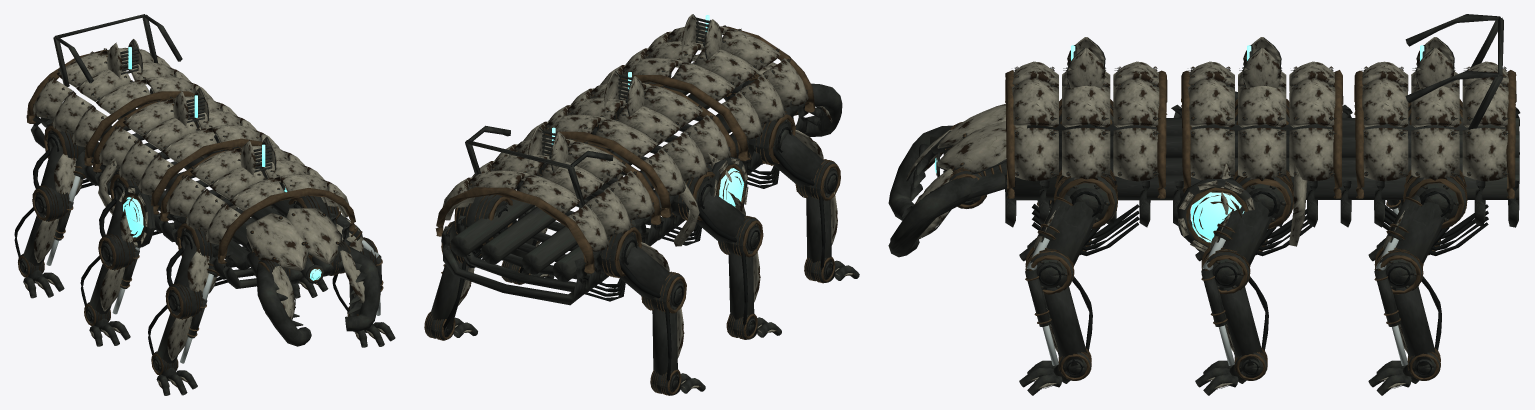
Rendered from boss-scrap-leviathan.glb.
3 renders of one model, left to right at view 1: azimuth 30°, elevation 25°; view 2: azimuth 150°, elevation 25°; view 3: azimuth 270°, elevation 25°, orthographic. The views are drawn at different scales.
Visible parts, largest first — view 1: motion-body, motion-weapon-0, motion-knee-4, motion-knee-0, motion-knee-2, motion-leg-4, motion-leg-0, motion-leg-2, motion-leg-1, motion-foot-0, motion-foot-4, motion-foot-2 (+6 smaller); view 2: motion-body, motion-leg-0, motion-leg-4, motion-knee-4, motion-knee-0, motion-knee-2, motion-leg-2, motion-weapon-0, motion-knee-5, motion-leg-5, motion-vent-0, motion-vent-1 (+5 smaller); view 3: motion-body, motion-weapon-0, motion-knee-1, motion-knee-3, motion-knee-5, motion-leg-5, motion-leg-1, motion-leg-3, motion-foot-3, motion-foot-5, motion-foot-1, motion-vent-0 (+2 smaller).
Part boxes in pixels (<box>): motion-body: <box>26,14,355,288</box>; motion-weapon-0: <box>246,208,380,346</box>; motion-knee-4: <box>14,185,73,274</box>; motion-knee-0: <box>148,283,207,372</box>; motion-knee-2: <box>80,234,139,316</box>; motion-leg-4: <box>33,122,85,202</box>; motion-leg-0: <box>166,220,219,300</box>; motion-leg-2: <box>99,171,150,250</box>; motion-leg-1: <box>288,195,379,258</box>; motion-foot-0: <box>151,351,197,395</box>; motion-foot-4: <box>18,253,64,298</box>; motion-foot-2: <box>84,302,130,346</box>; motion-body: <box>435,25,815,305</box>; motion-leg-0: <box>747,111,829,186</box>; motion-leg-4: <box>597,223,675,300</box>; motion-knee-4: <box>641,271,686,391</box>; motion-knee-0: <box>795,159,840,269</box>; motion-knee-2: <box>718,216,763,335</box>; motion-leg-2: <box>671,168,752,242</box>; motion-weapon-0: <box>692,54,842,136</box>; motion-knee-5: <box>431,221,481,329</box>; motion-leg-5: <box>449,194,512,254</box>; motion-vent-0: <box>681,14,722,59</box>; motion-vent-1: <box>604,71,644,116</box>; motion-body: <box>1005,14,1520,256</box>; motion-weapon-0: <box>888,104,1027,257</box>; motion-knee-1: <box>1025,246,1092,376</box>; motion-knee-3: <box>1201,246,1268,376</box>; motion-knee-5: <box>1374,246,1441,375</box>; motion-leg-5: <box>1375,169,1467,270</box>; motion-leg-1: <box>1026,169,1118,270</box>; motion-leg-3: <box>1202,170,1293,270</box>; motion-foot-3: <box>1195,347,1267,395</box>; motion-foot-5: <box>1368,347,1440,395</box>; motion-foot-1: <box>1019,348,1091,395</box>; motion-vent-0: <box>1067,37,1105,89</box>.
Size of the model in its own units: 6.25 by 5.56 by 11.31.
Materials: 6 (4 with a texture image).
